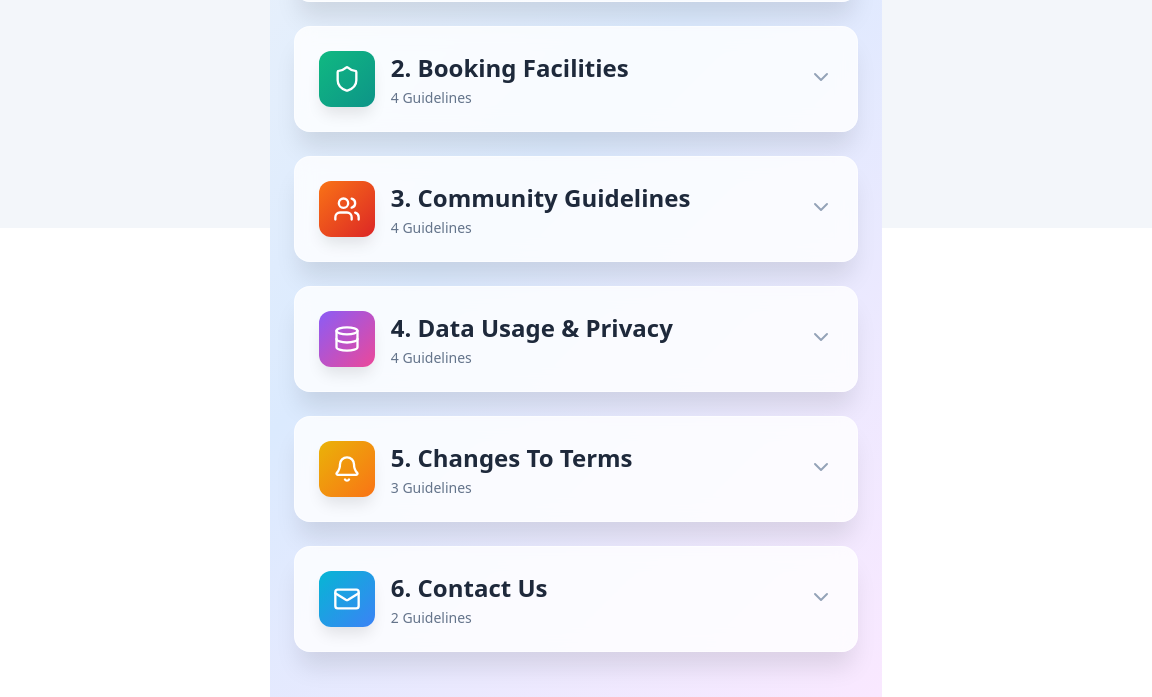
Scenario: TermsOfUsePage Component › renders Changes to Terms section content when expanded
(page scrolled)
Click the button "5. Changes to Terms 3 guidelines": {"x": 576, "y": 469} 295,417 -> 857,521
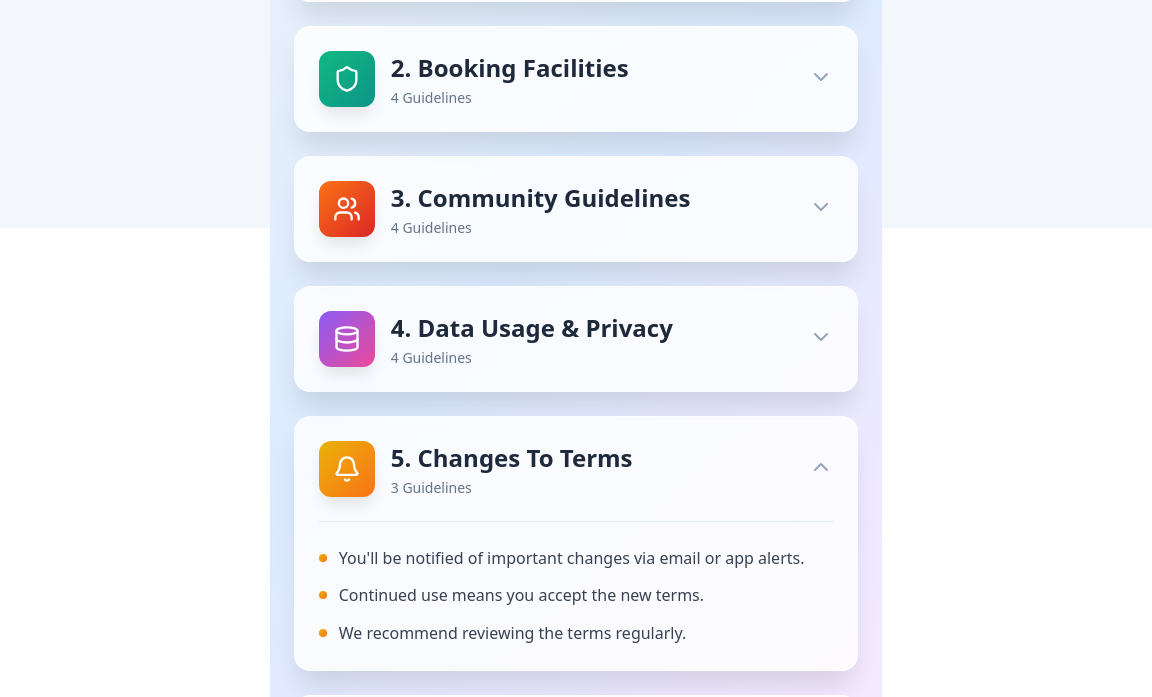
Check: the text "You'll be notified of important changes via email or app alerts." is shown, box 339,546 -> 833,571
Check: the text "Continued use means you accept the new terms." is shown, box 339,584 -> 704,606
Check: the text "We recommend reviewing the terms regularly." is shown, box 339,622 -> 686,644
